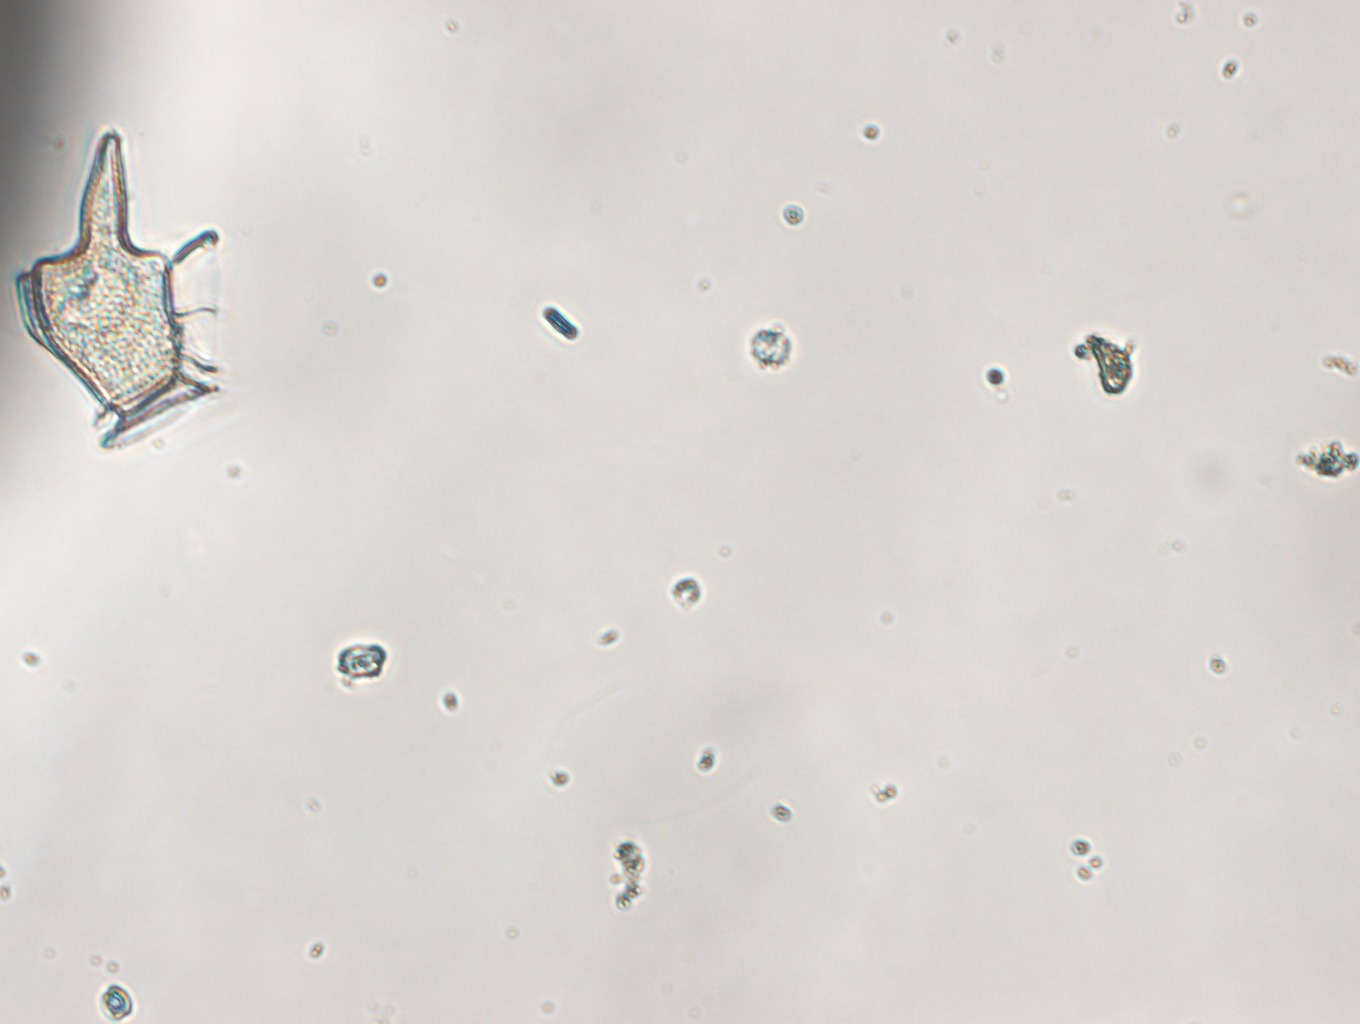dinophysis caudata: (14, 126, 220, 449)
